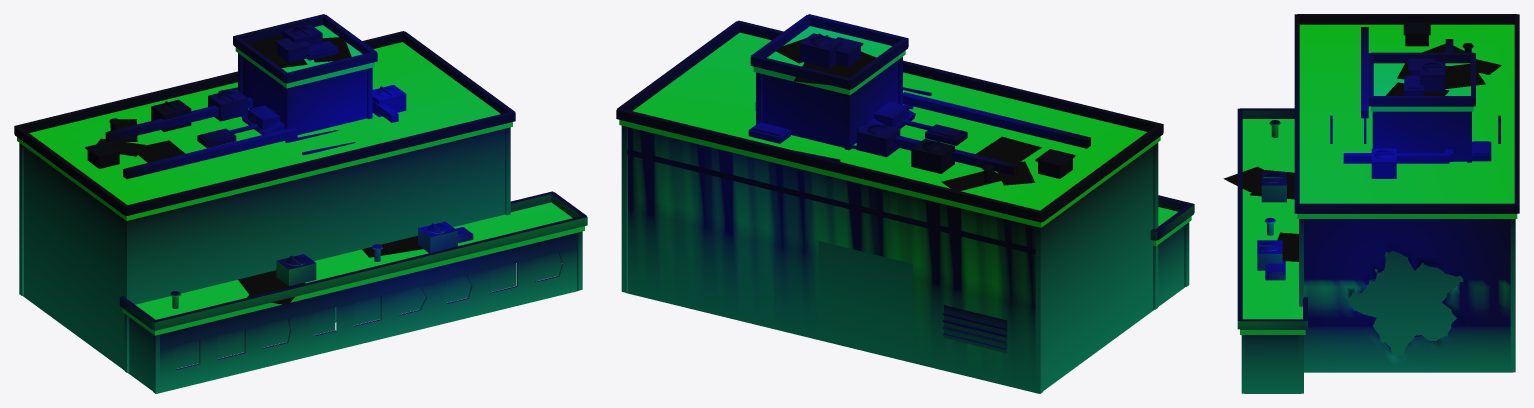
Rendered from factorylg_damaged.glb.
The picture shows the model from 3 angles, left to right: view 1: azimuth 30°, elevation 25°; view 2: azimuth 150°, elevation 25°; view 3: azimuth 270°, elevation 25°; orthographic projection. The views are drawn at different scales.
Visible parts, largest first — view 1: lod0; view 2: lod0; view 3: lod0.
Boxes of the visible parts, box(x1,y1,x2,y2) form: lod0: box(14, 14, 587, 393); lod0: box(616, 14, 1194, 393); lod0: box(1223, 14, 1519, 393).
Size of what is drawn, in the model's own units: 30 by 15.64 by 17.65.
